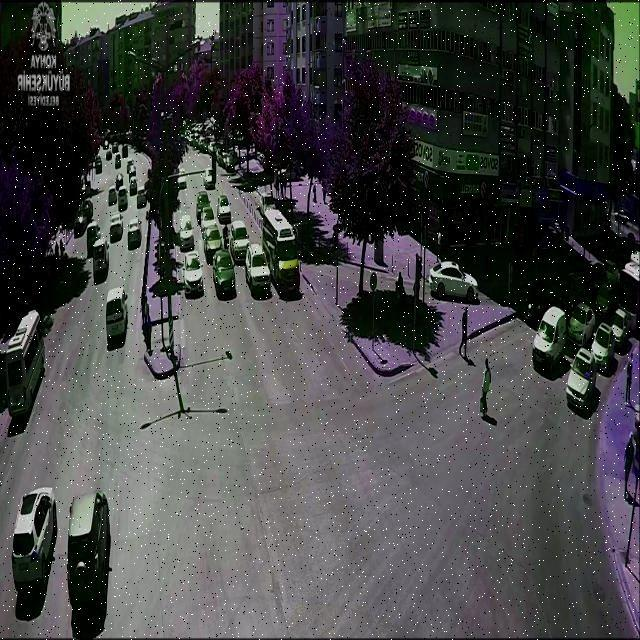Bus: (4, 309, 46, 418), (262, 208, 300, 291)
Car: (65, 491, 108, 606), (11, 486, 56, 592), (429, 260, 479, 303), (564, 347, 594, 407), (245, 243, 272, 290), (566, 302, 594, 346), (210, 249, 236, 296), (105, 288, 127, 339), (591, 322, 616, 366), (182, 253, 205, 294), (93, 239, 110, 279), (612, 308, 630, 341), (178, 215, 195, 249), (203, 224, 224, 251), (126, 218, 144, 242), (108, 214, 125, 238), (217, 196, 232, 221), (196, 190, 210, 215), (200, 207, 214, 230), (137, 186, 150, 206), (108, 185, 116, 203)
Van: (532, 306, 568, 374)
